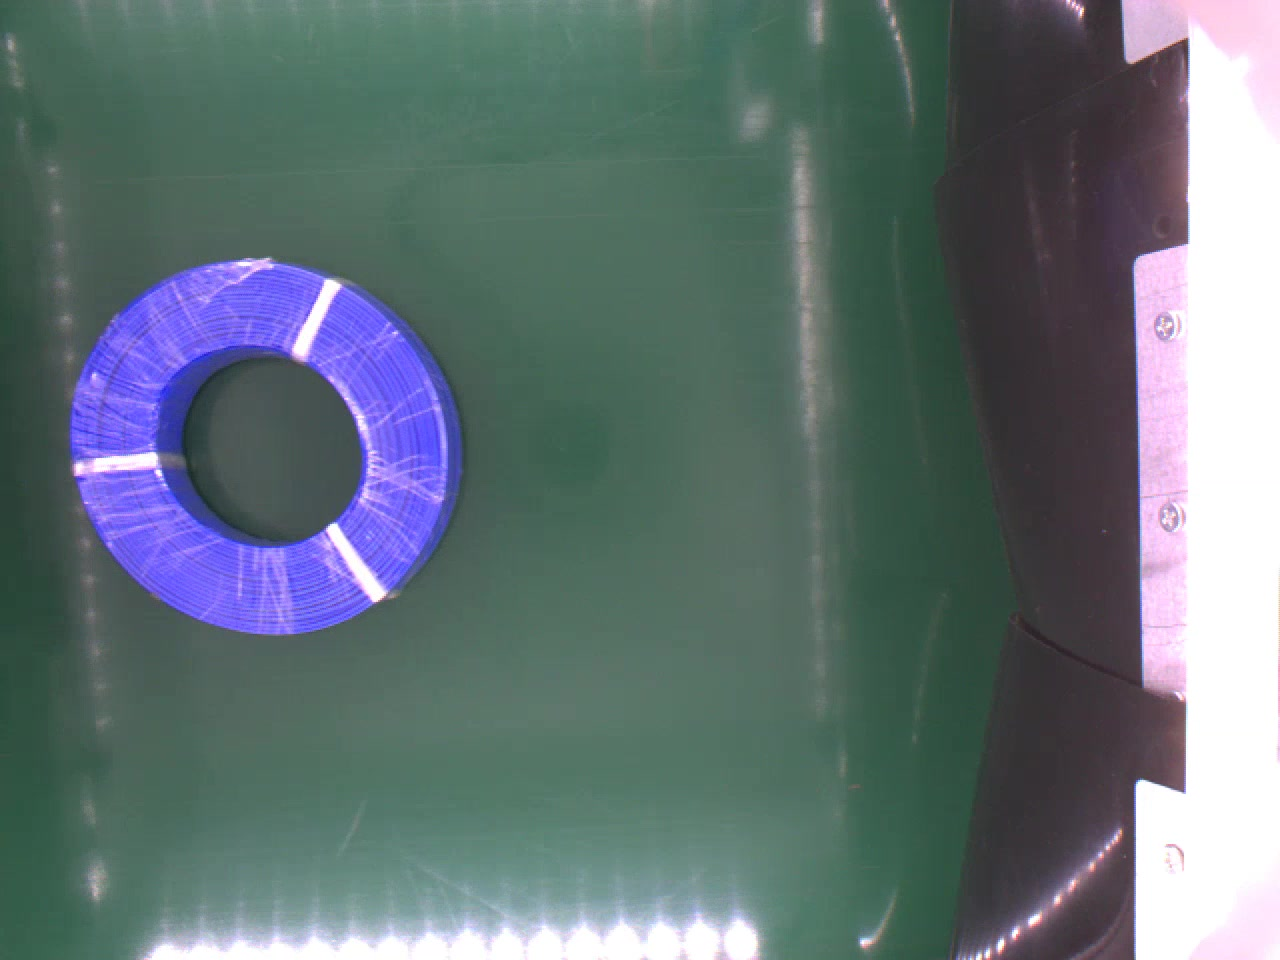blue: (69, 256, 465, 631)
